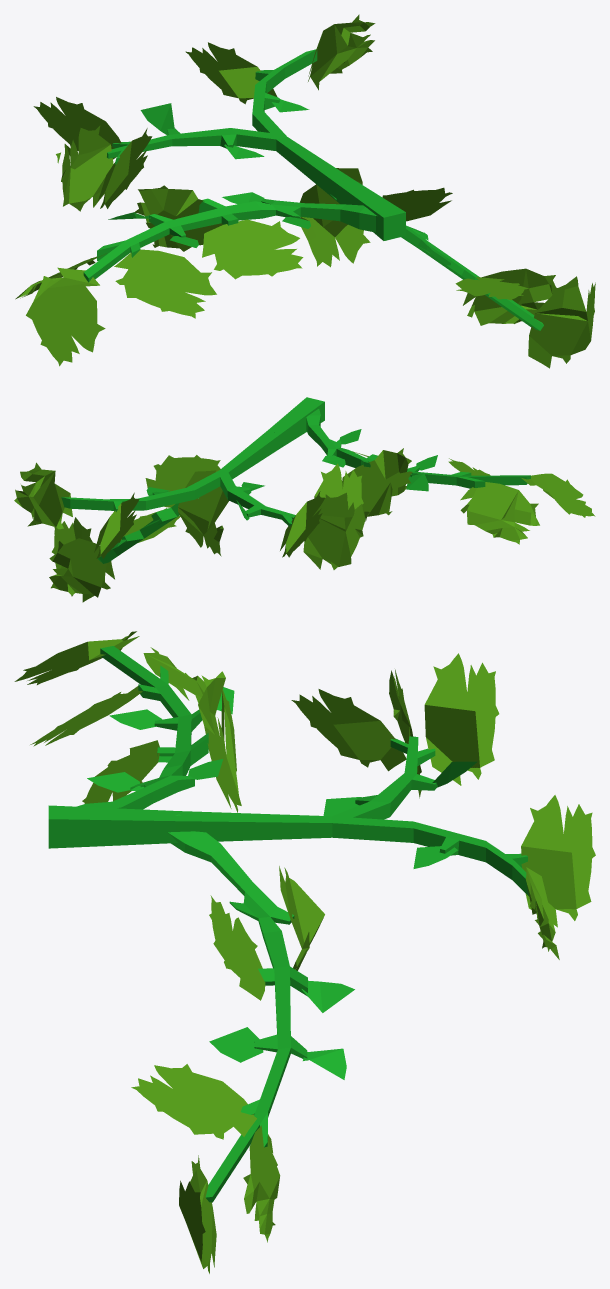
File: tomate-baixo1.glb
3 renders of one model, top to bottom at view 1: azimuth 30°, elevation 25°; view 2: azimuth 150°, elevation 25°; view 3: azimuth 270°, elevation 25°, orthographic. The views are drawn at different scales.
Visible parts, largest first — view 1: folhas, Cube; view 2: folhas, Cube; view 3: folhas, Cube.
Part boxes in pixels (x1=…): folhas: x1=15, y1=14, x2=595, y2=368; Cube: x1=83, y1=49, x2=543, y2=330; folhas: x1=14, y1=448, x2=595, y2=602; Cube: x1=61, y1=397, x2=530, y2=563; folhas: x1=14, y1=631, x2=595, y2=1273; Cube: x1=48, y1=646, x2=535, y2=1202.
Size of the model in its own units: 3.79 by 1.78 by 2.52.
